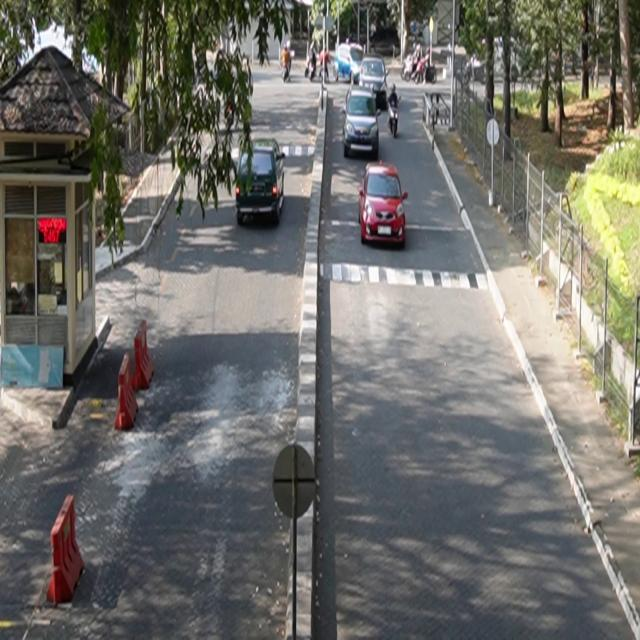car: (236, 137, 286, 226), (359, 161, 409, 248), (343, 87, 382, 160), (360, 57, 389, 110)
